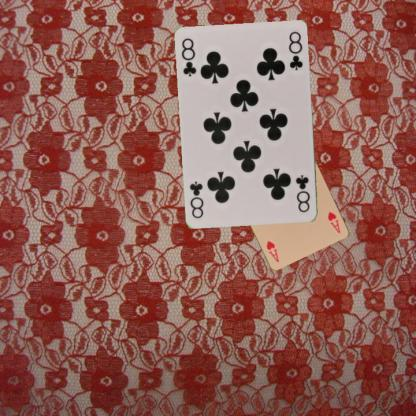8c: (179, 36, 198, 78), (293, 172, 311, 214)
Ah: (325, 209, 342, 235)
